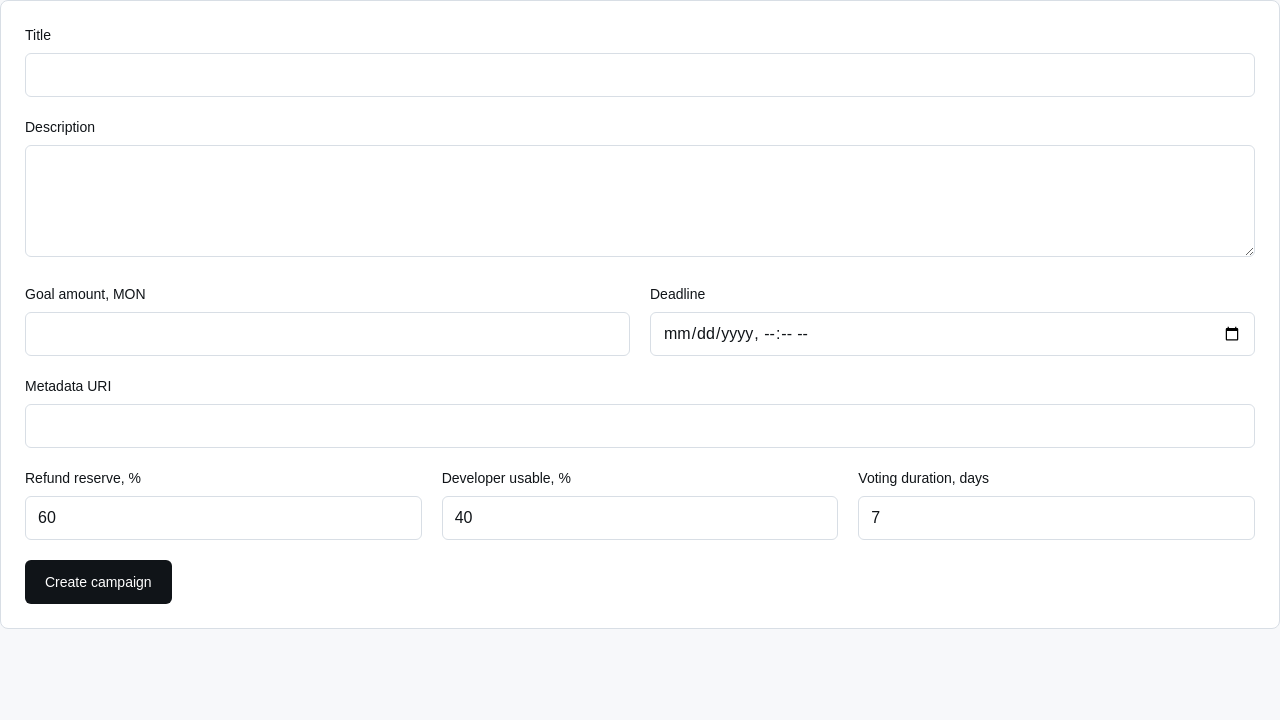
Scenario: CreateCampaignForm › shows loading state during transaction
In the field labelled "Title": (640, 75) left=25, top=53, right=1255, bottom=97, type "Launch Toolkit"
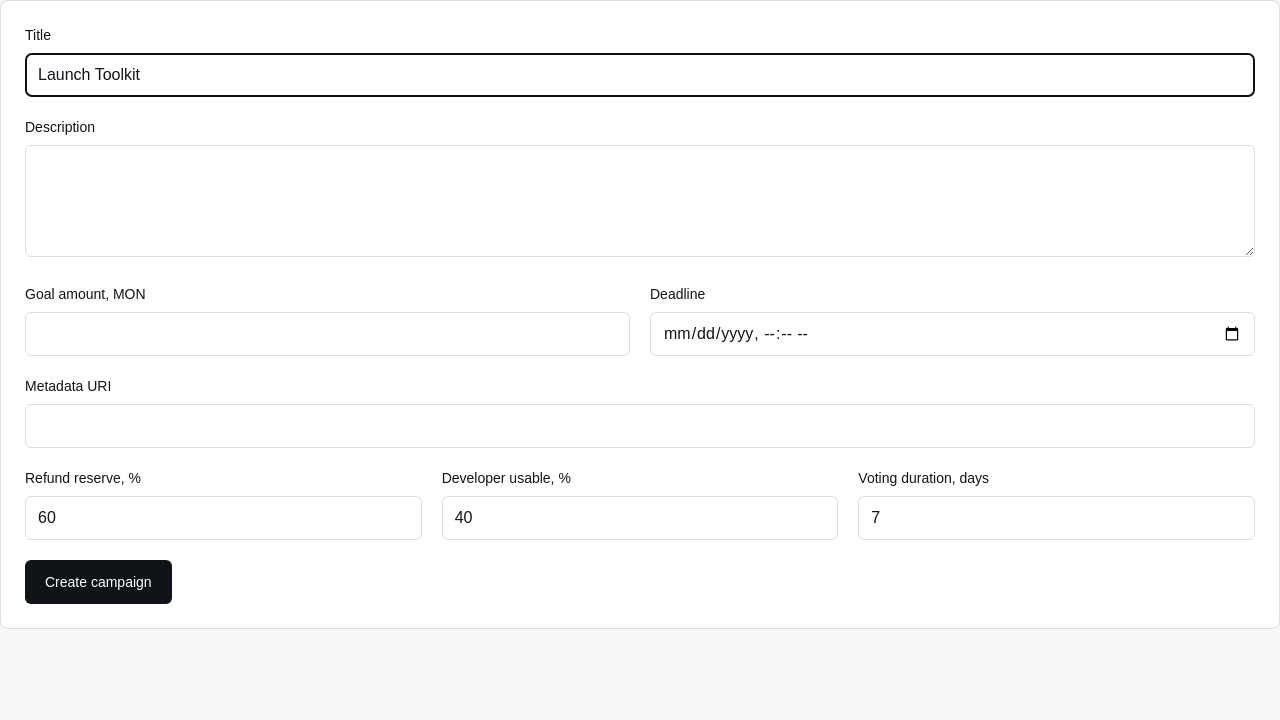
In the text box labelled "Description": (640, 201) left=25, top=145, right=1255, bottom=257, type "A useful investment campaign."
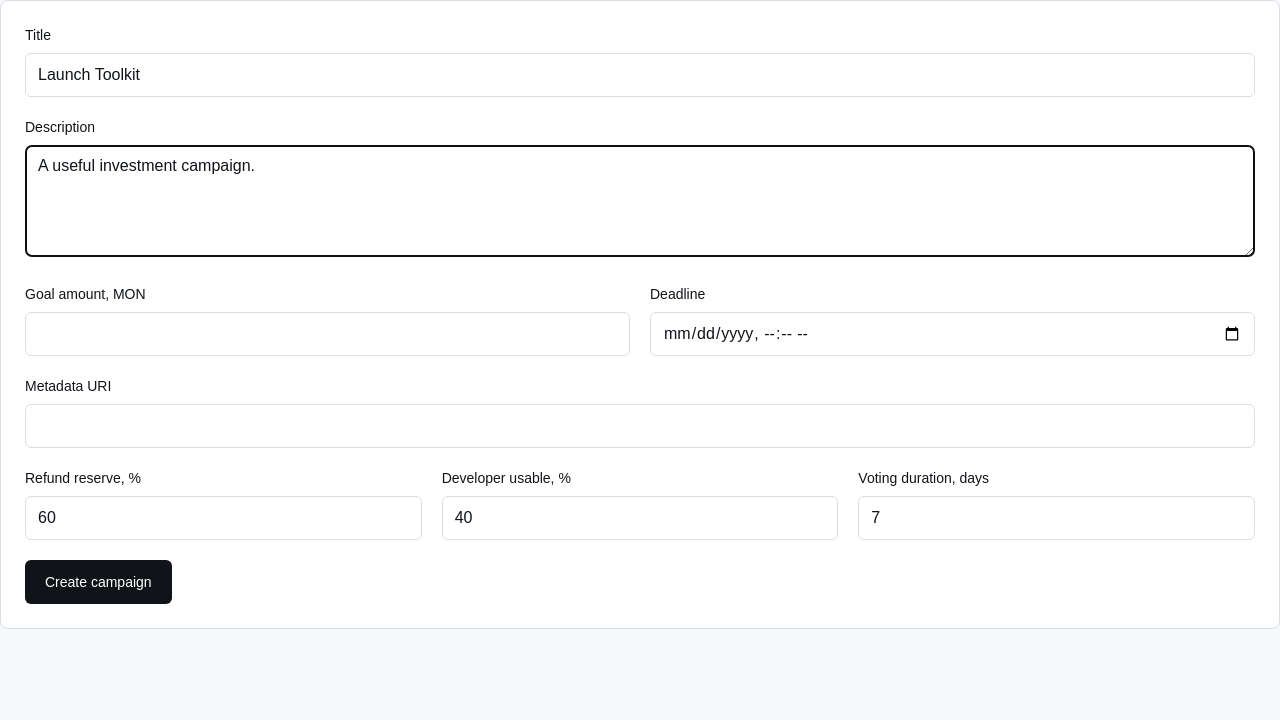
In the number field labelled "Goal amount, MON": (328, 334) left=25, top=312, right=630, bottom=356, type "100"
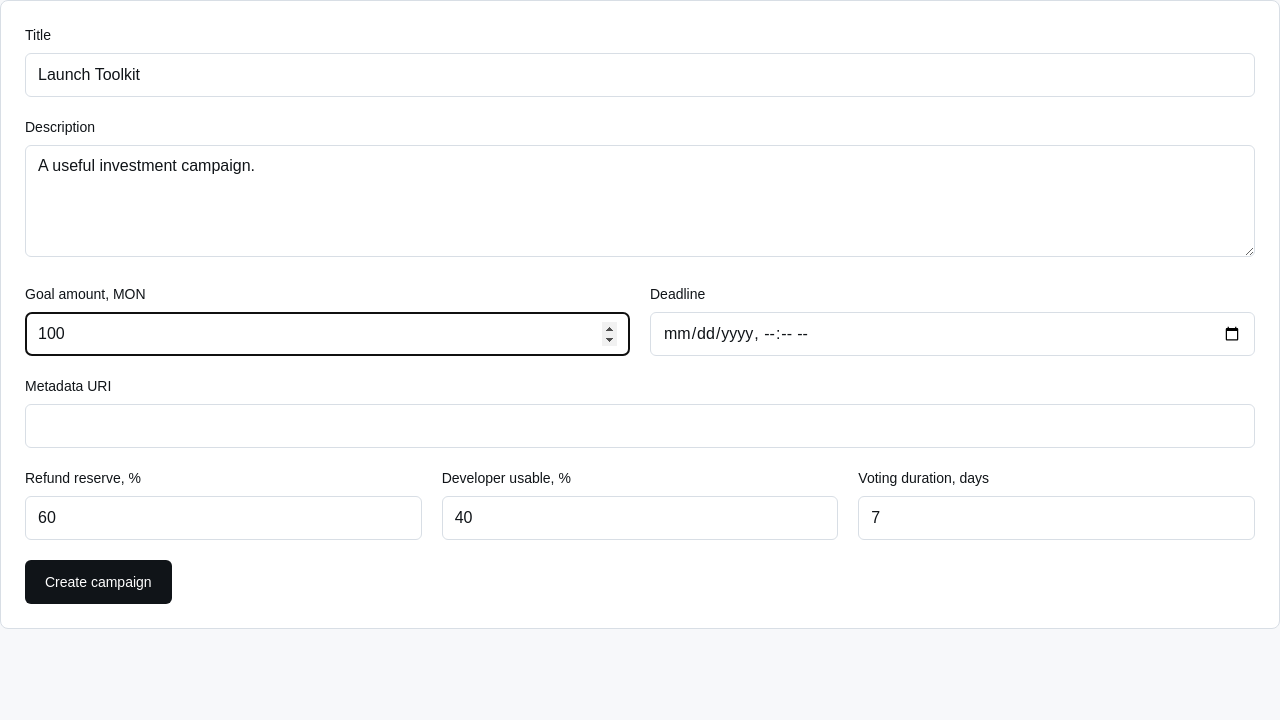
In the field labelled "Deadline": (952, 334) left=650, top=312, right=1255, bottom=356, type "2027-01-01T10:00"
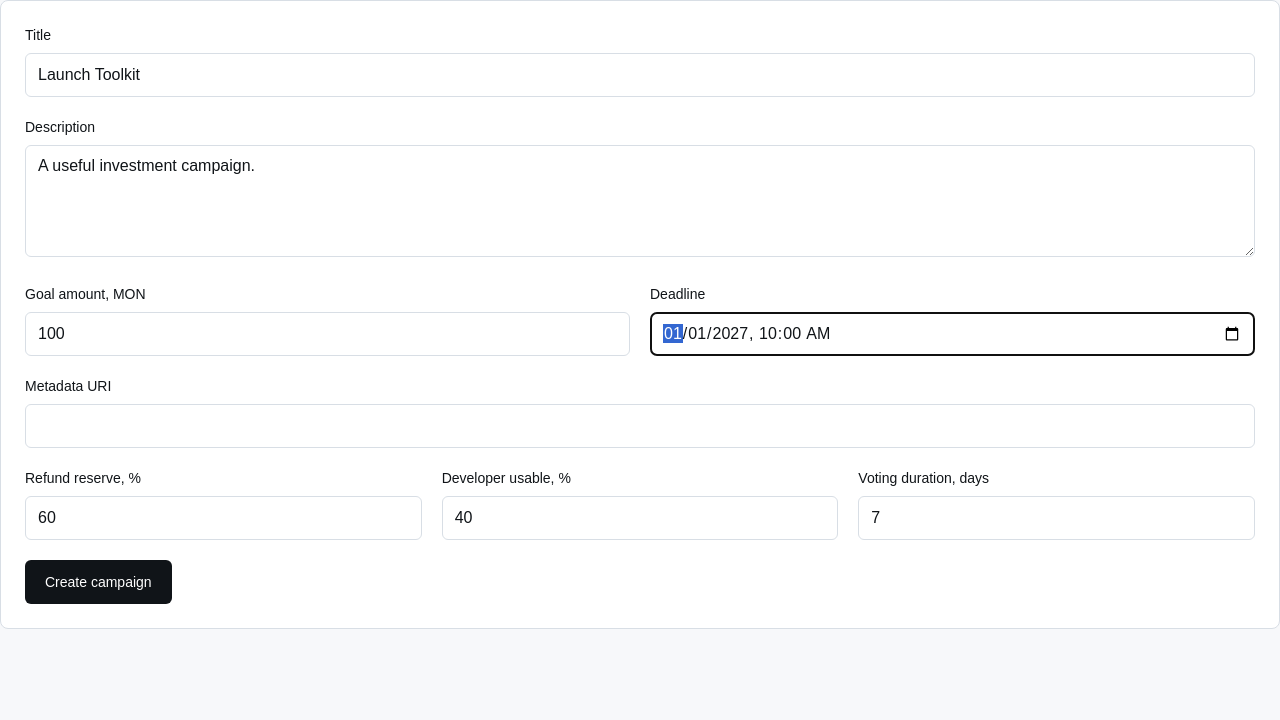
In the field labelled "Metadata URI": (640, 426) left=25, top=404, right=1255, bottom=448, type "ipfs://launch-toolkit"
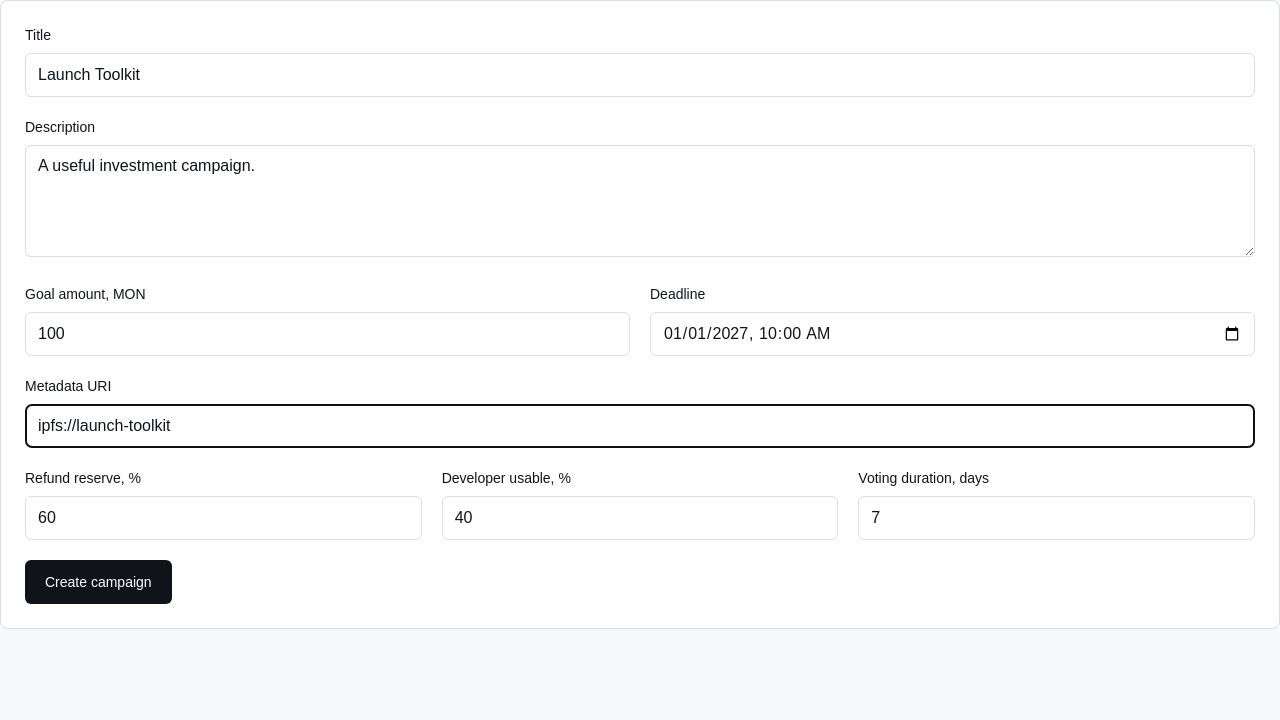
Click the button "Create campaign": click(98, 582) left=25, top=560, right=172, bottom=604
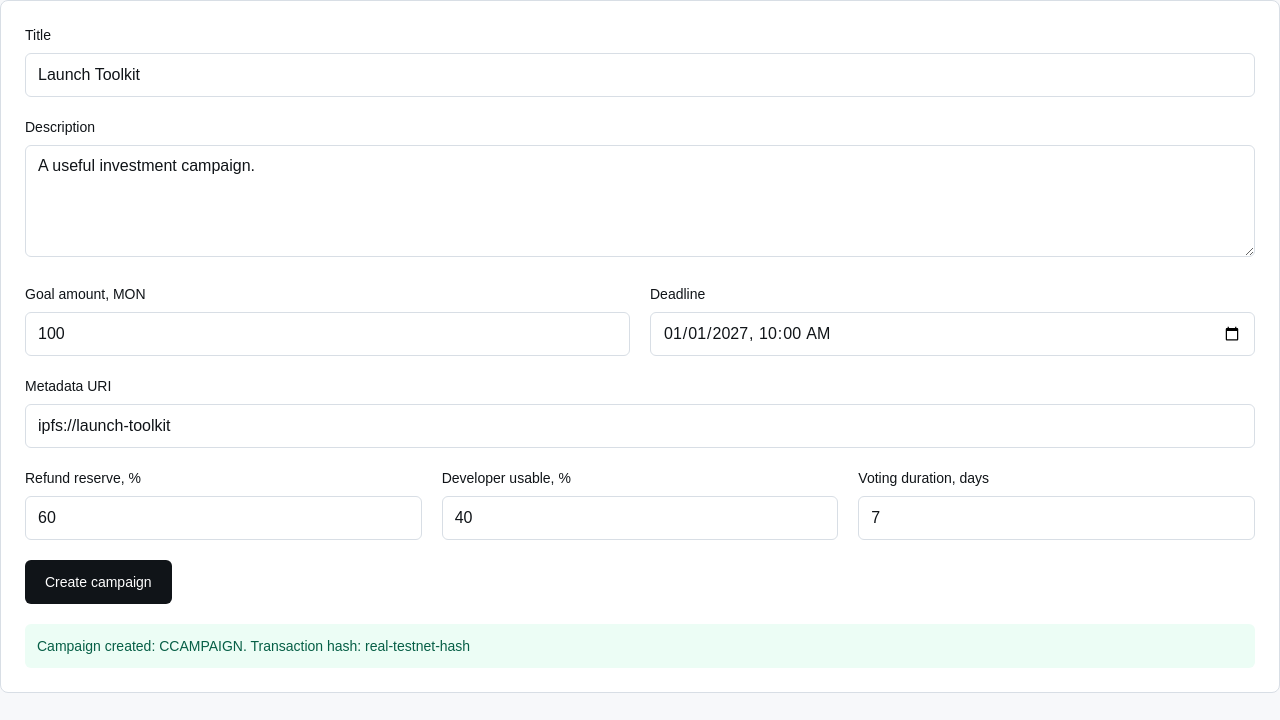
Expected: the text "Transaction hash:" is shown, left=37, top=638, right=470, bottom=654
